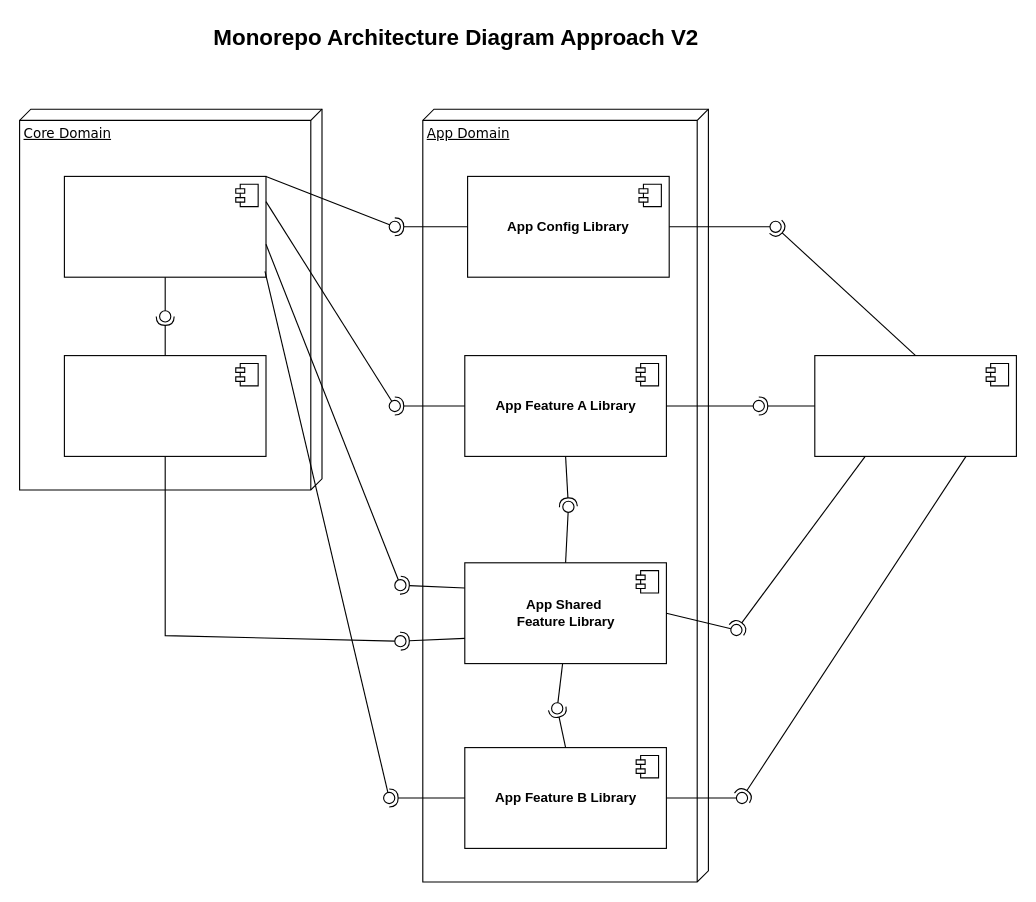
Some shapes in this 1036 by 902 pixel diagram are drawn without their labels. The shapes that lost their labels are listed below. From the top down, each one's centre as x and y in pixels, then its label:
At point 164,226: "Core Config Library".
At point 164,405: "Core Feature Shared Library".
At point 915,405: "App".
